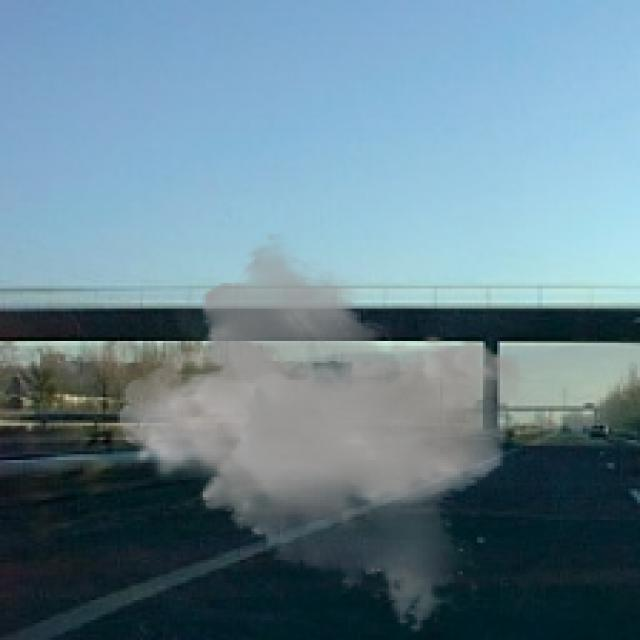smoke: (117, 232, 526, 634)
